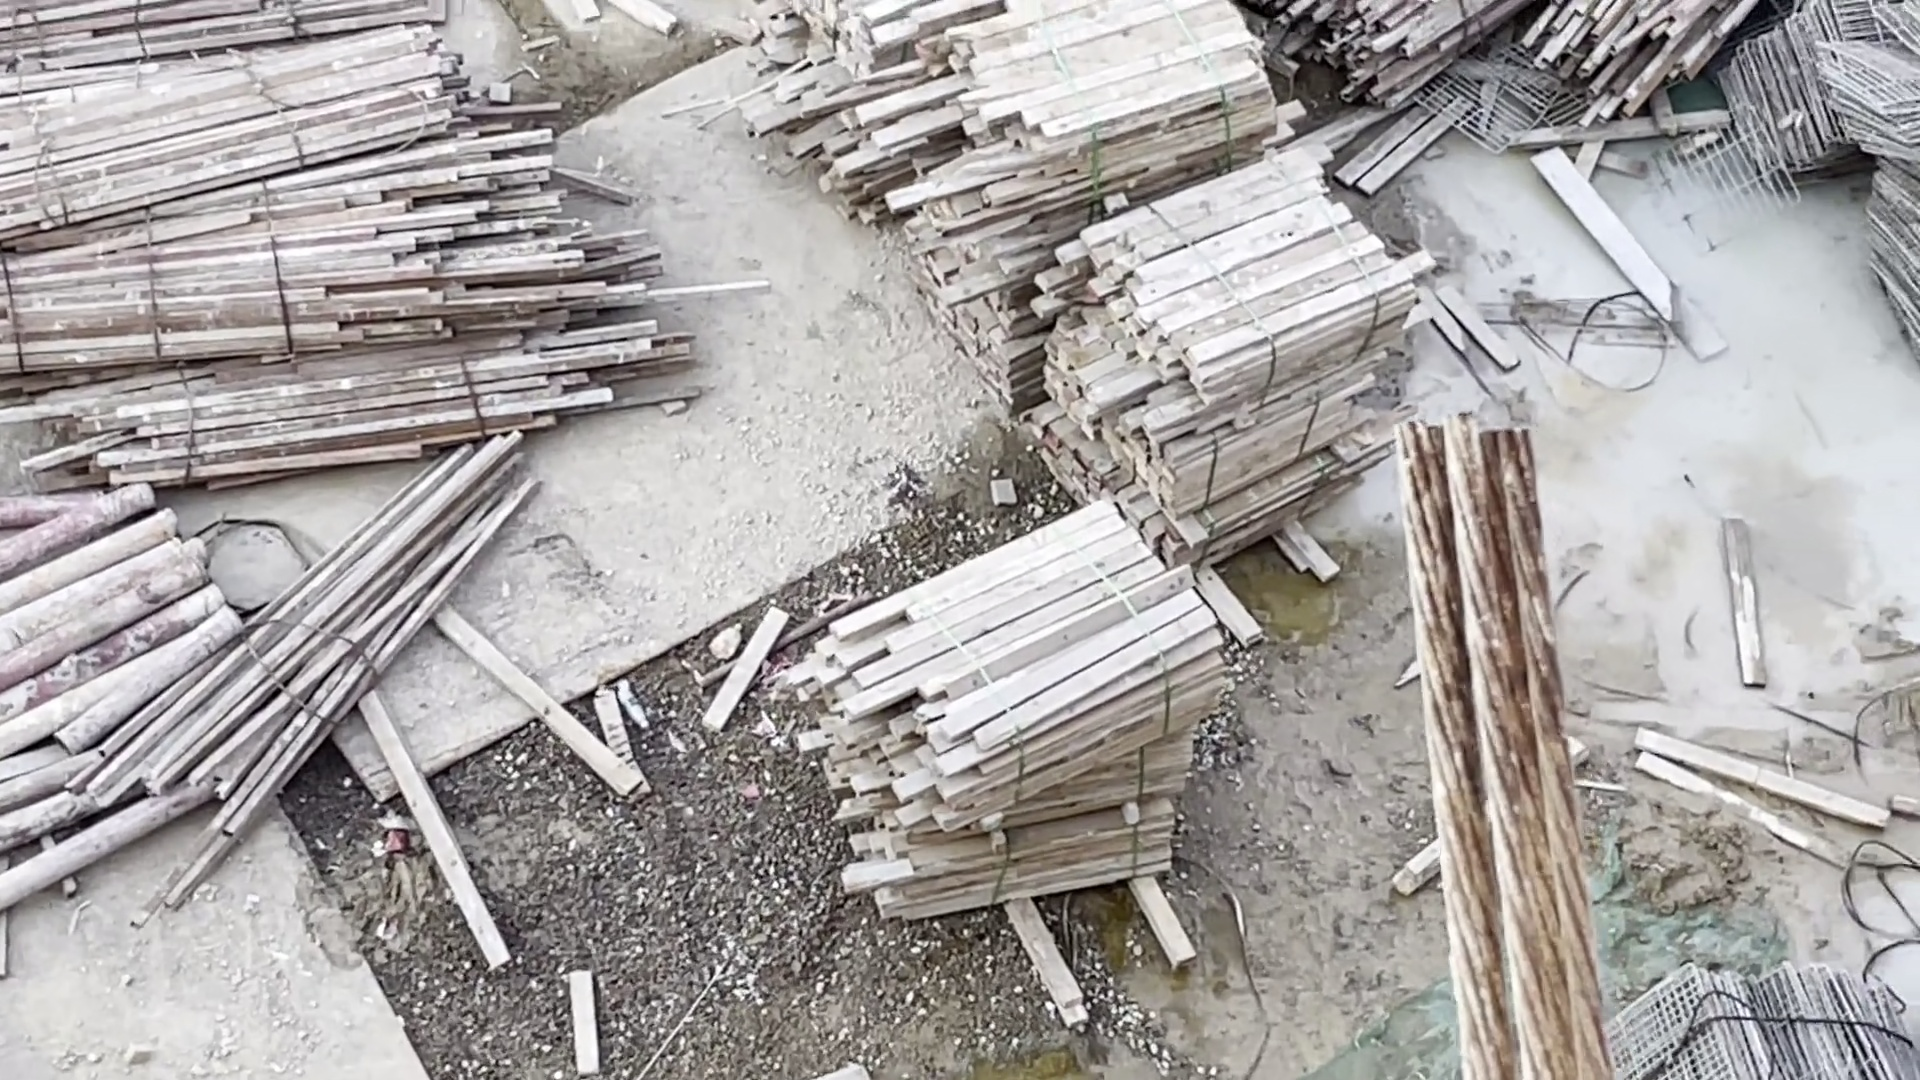wood: (767, 1, 1371, 541), (1, 1, 686, 443), (819, 504, 1195, 903)
